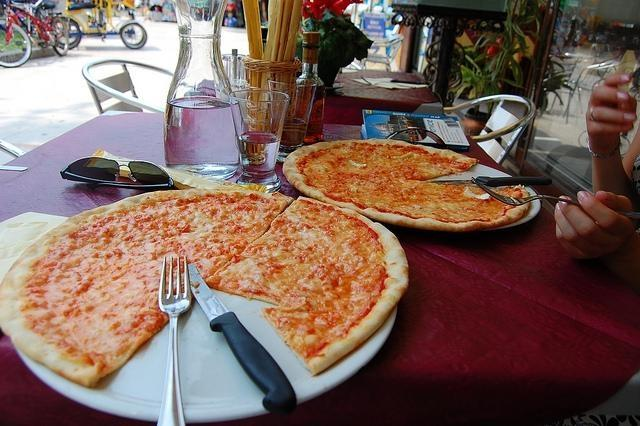bicycle: (1, 0, 84, 67)
